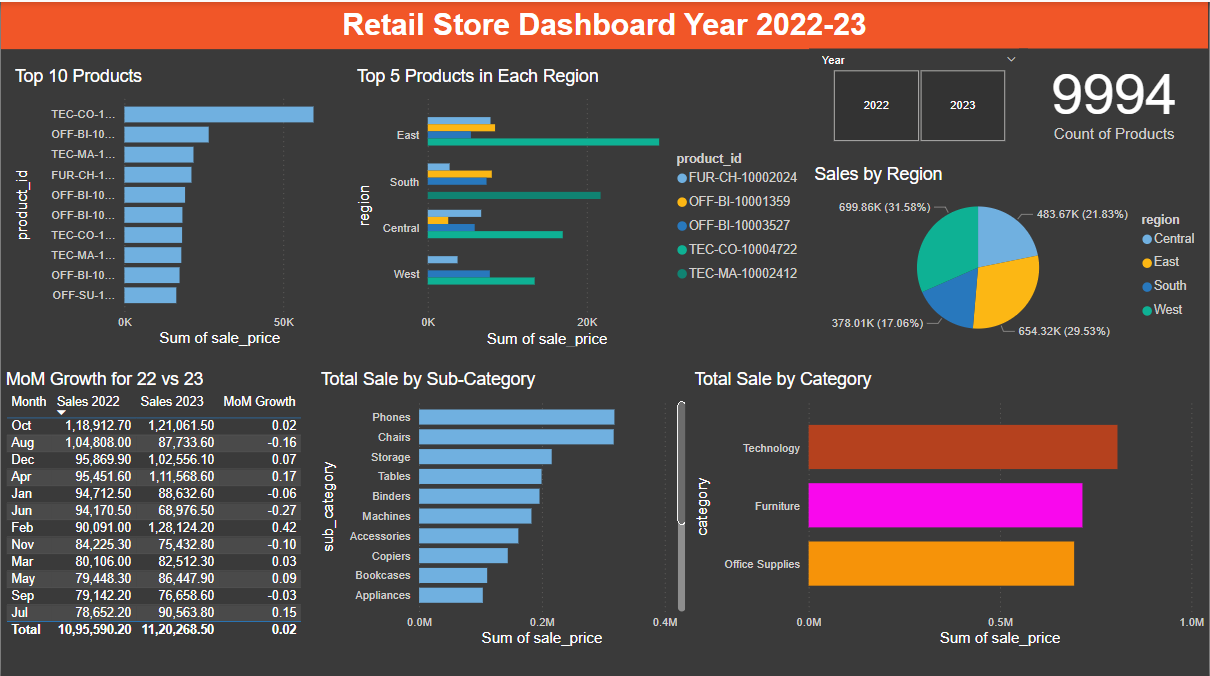

The page's visual inventory and layout, read from the dashboard file:
{"tool":"powerbi","page":{"name":"Page 1","canvas":[1280,720],"ordinal":0},"visuals":[{"type":"barChart","title":"Top 10 Products","fields":{"Category":["sample_database df_orders.product_id"],"Y":["Sum(sample_database df_orders.sale_price)"]},"box":[10.1,68.1,339.1,301.4],"z":0},{"type":"clusteredBarChart","title":"Top 5 Products in Each Region","fields":{"Y":["Sum(sample_database df_orders.sale_price)"],"Category":["sample_database df_orders.region"],"Series":["sample_database df_orders.product_id"]},"box":[371.9,68.4,486,301.8],"z":1000},{"type":"tableEx","title":"MoM Growth for 22 vs 23","fields":{"Values":["DateTable.Month","DateTable.Sales 2022","DateTable.Sales 2023","DateTable.MoM Growth"]},"box":[0,389.5,349.1,298.2],"z":2000},{"type":"barChart","title":"Total Sale by Category","fields":{"Category":["sample_database df_orders.category"],"Y":["Sum(sample_database df_orders.sale_price)"]},"box":[729.8,389.5,550.9,298.2],"z":3000},{"type":"clusteredBarChart","title":"Total Sale by Sub-Category","fields":{"Category":["sample_database df_orders.sub_category"],"Y":["Sum(sample_database df_orders.sale_price)"]},"box":[333.3,389.5,396.5,298.2],"z":4000},{"type":"textbox","box":[0,0,1280.3,50],"z":5000},{"type":"card","fields":{"Values":["CountNonNull(sample_database df_orders.product_id)"]},"box":[1080.7,49.1,200,105.3],"z":6000},{"type":"slicer","fields":{"Values":["DateTable.Year"]},"box":[857.9,49.1,231.6,105.3],"z":7000},{"type":"pieChart","title":"Sales by Region","fields":{"Series":["sample_database df_orders.region"],"Y":["Sum(sample_database df_orders.sale_price)"]},"box":[857.9,171.9,422.8,198.2],"z":8000}]}

Visuals, with their boxes in screenshot pixels (x1, y1, x2, y2), scaled from the page's 1280x720 canvas onto the 1210x676 screenshot:
"Top 10 Products" barChart: pyautogui.locateOnScreen(10, 64, 330, 347)
"Top 5 Products in Each Region" clusteredBarChart: pyautogui.locateOnScreen(352, 64, 811, 348)
"MoM Growth for 22 vs 23" tableEx: pyautogui.locateOnScreen(0, 366, 330, 646)
"Total Sale by Category" barChart: pyautogui.locateOnScreen(690, 366, 1209, 646)
"Total Sale by Sub-Category" clusteredBarChart: pyautogui.locateOnScreen(315, 366, 690, 646)
textbox: pyautogui.locateOnScreen(0, 0, 1209, 47)
card - CountNonNull(sample_database df_orders.product_id): pyautogui.locateOnScreen(1022, 46, 1209, 145)
slicer - DateTable.Year: pyautogui.locateOnScreen(811, 46, 1030, 145)
"Sales by Region" pieChart: pyautogui.locateOnScreen(811, 161, 1209, 347)
